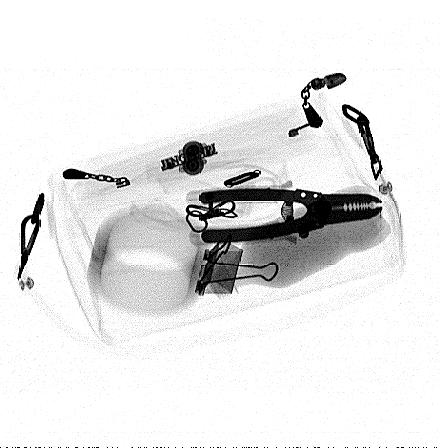Pliers: (199, 187, 385, 243)
